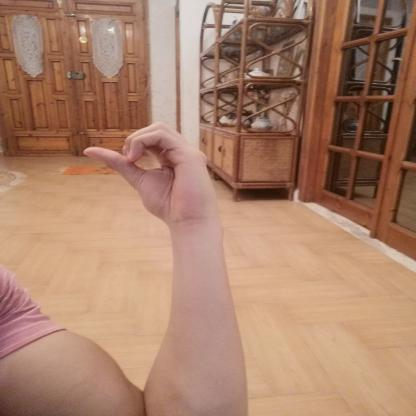WAW: (72, 114, 226, 230)
